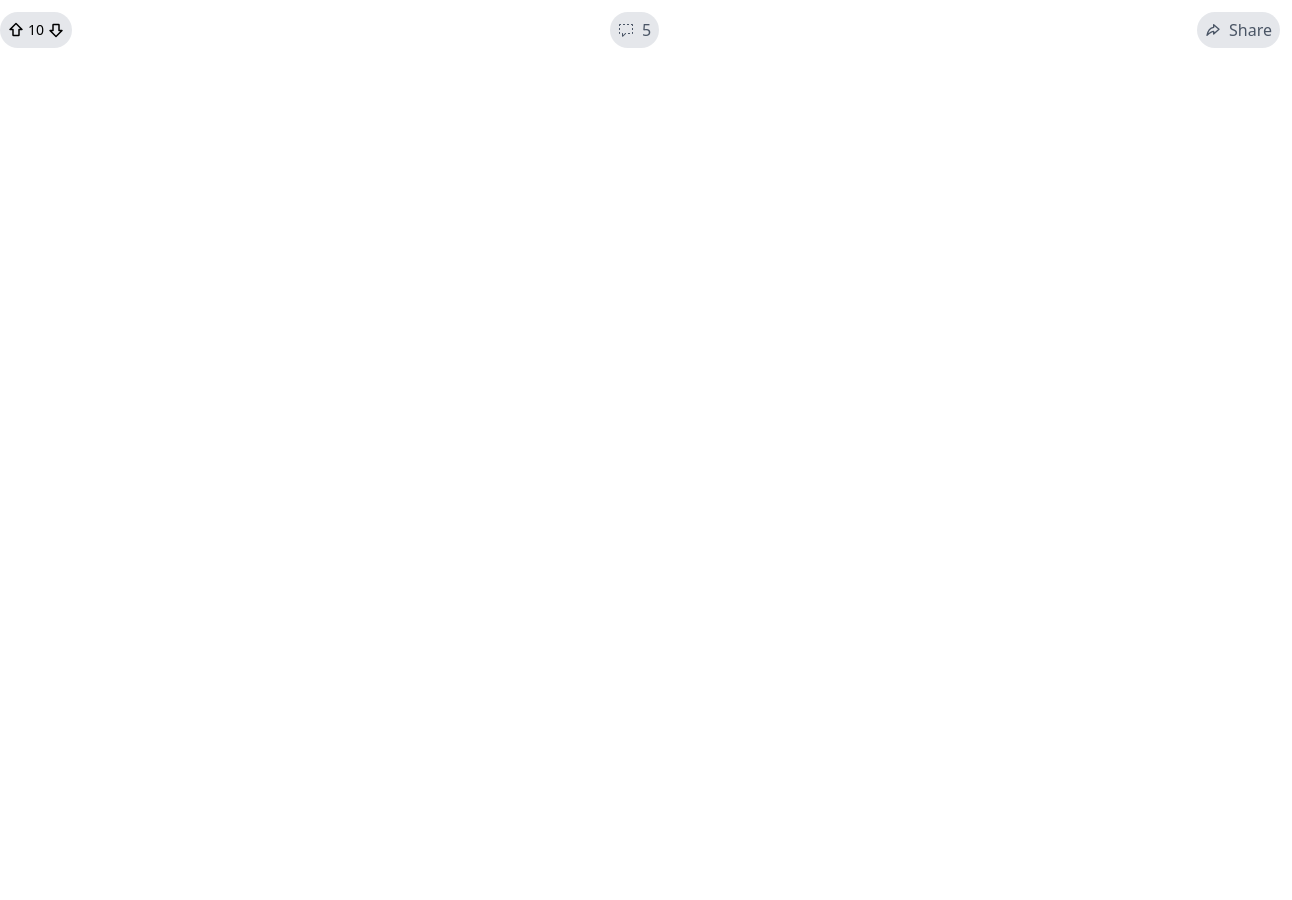
Test case: PostButtons component › share button toggles popup and copies link
Expected: the text "copy link" is not shown
// Click share button opens popup
What coordinates should you click on to do the following:
click the button with aria-label "share button"
I would click on:
 (1238, 30)
Its box is [1197,12,1280,48].
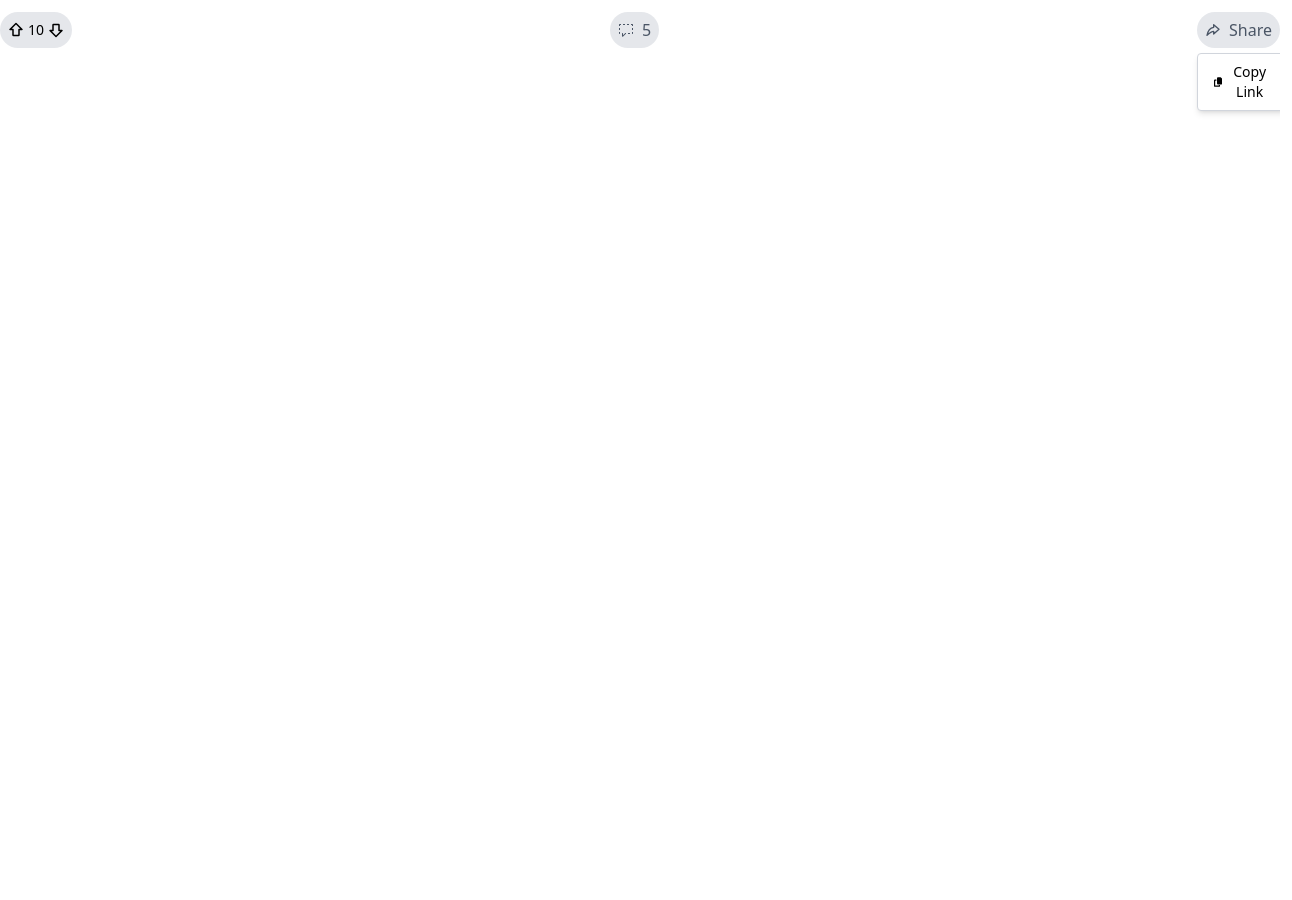
Expected: the button "Copy Link" is shown
// Click copy link triggers clipboard writeText and shows copied message
What coordinates should you click on to do the following:
click the button with aria-label "copy post link"
I would click on:
 (1241, 82)
Its box is [1214,62,1269,102].
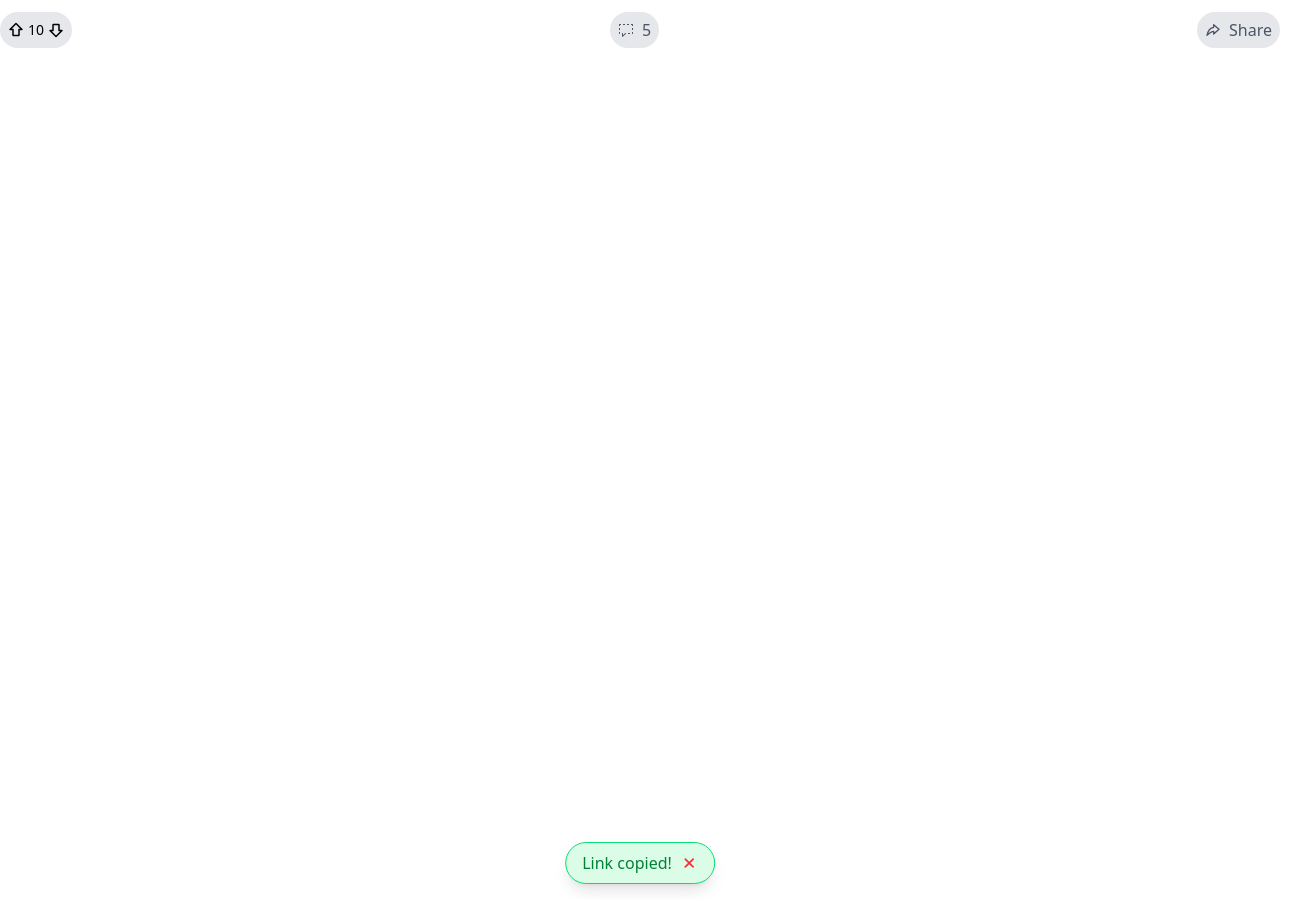
Expected: the text "Link copied!" is shown, [582,851,672,875]
// Close copied message by clicking close button
What coordinates should you click on to do the following:
click the button named "close modal"
I would click on:
 (689, 863)
Its box is [680,854,698,872].
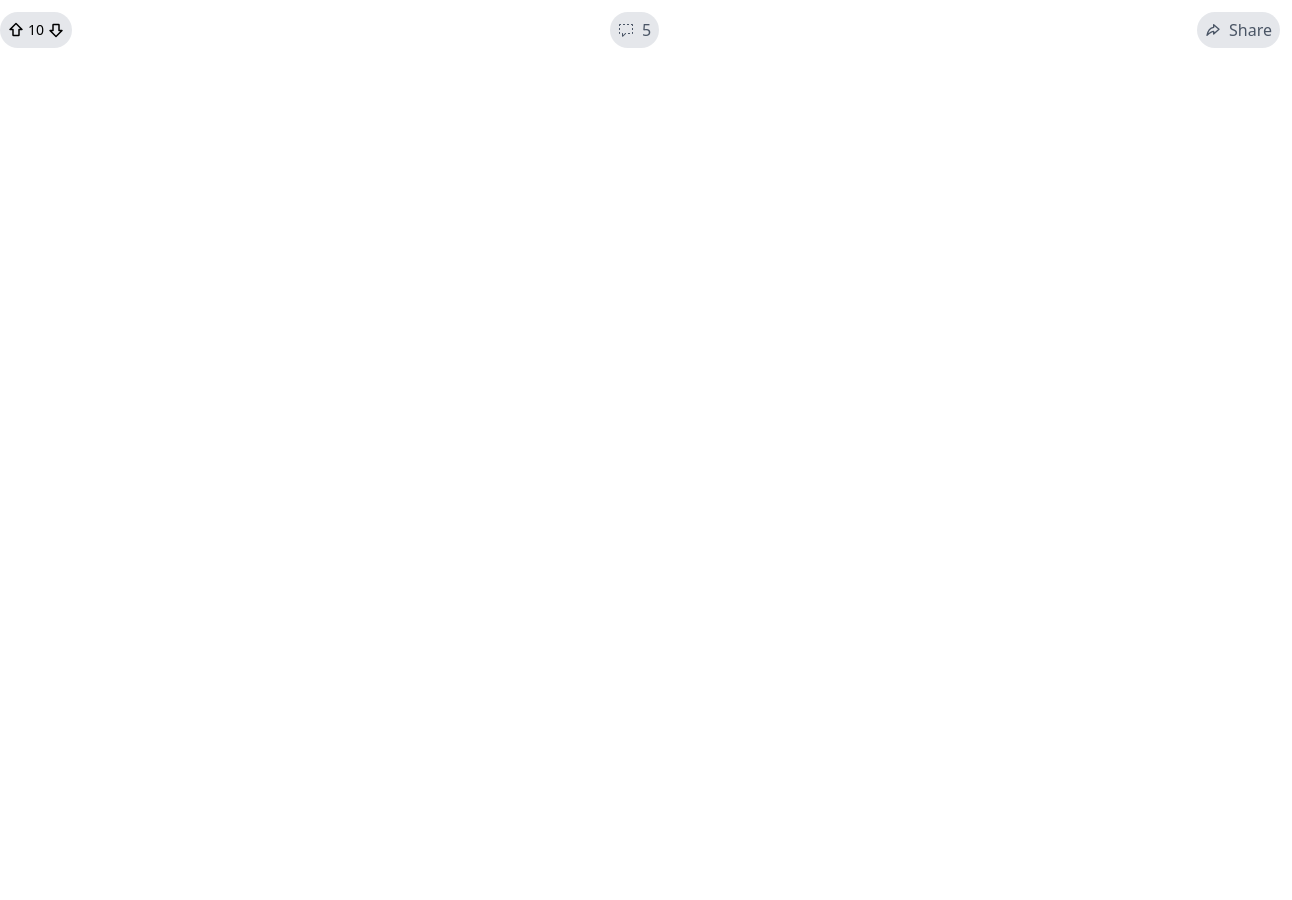
Expected: the text "Link copied!" is gone
